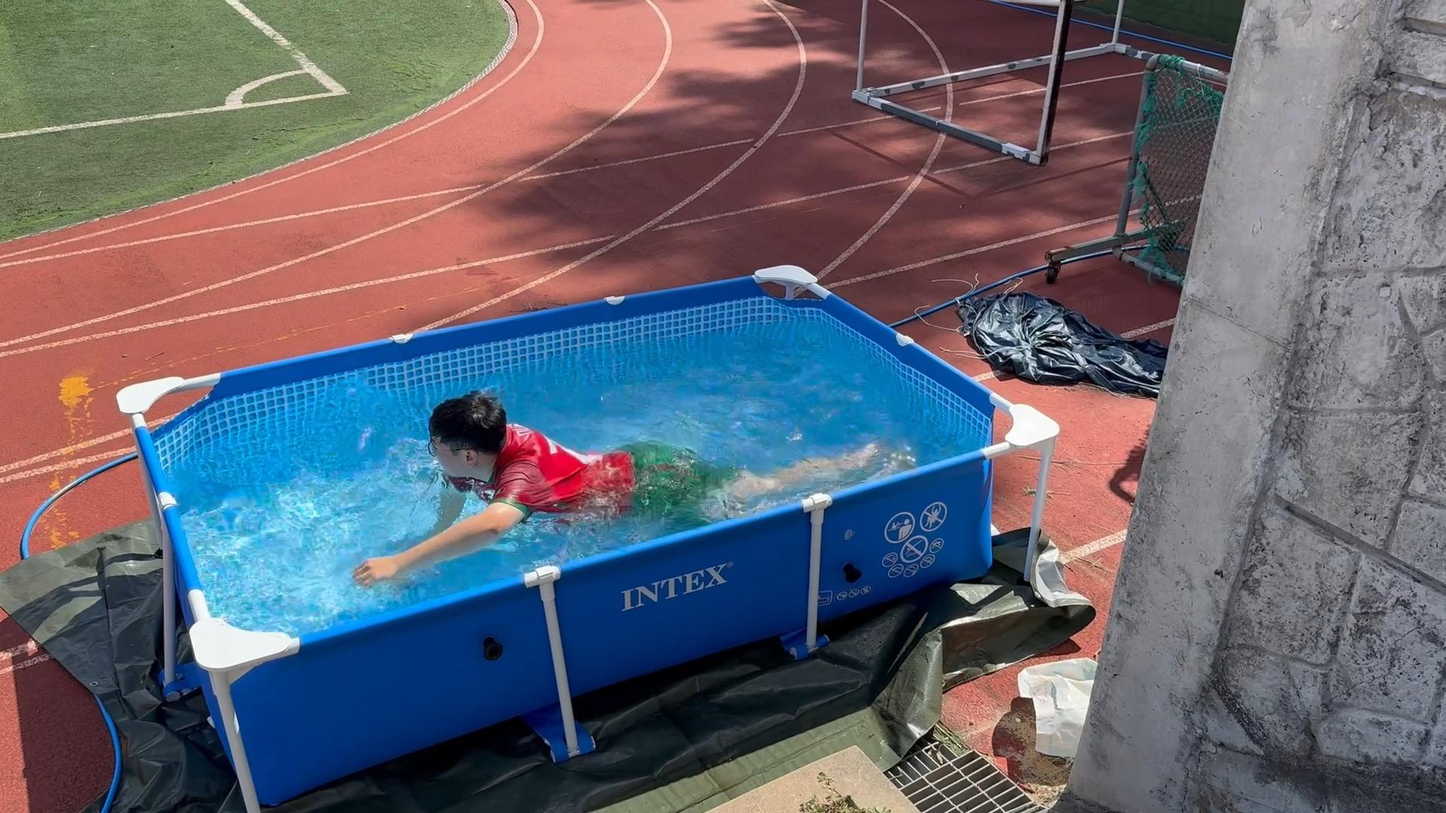Swimming: (291, 371, 925, 599)
